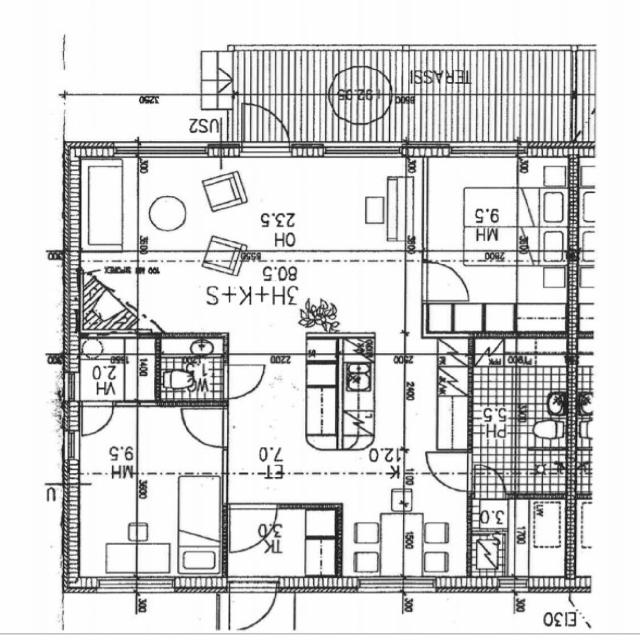door: (230, 576, 278, 629), (242, 107, 288, 157), (414, 452, 472, 491), (422, 262, 480, 301), (171, 409, 228, 447), (230, 504, 276, 545), (222, 366, 270, 398), (474, 468, 508, 498), (82, 401, 114, 430)
